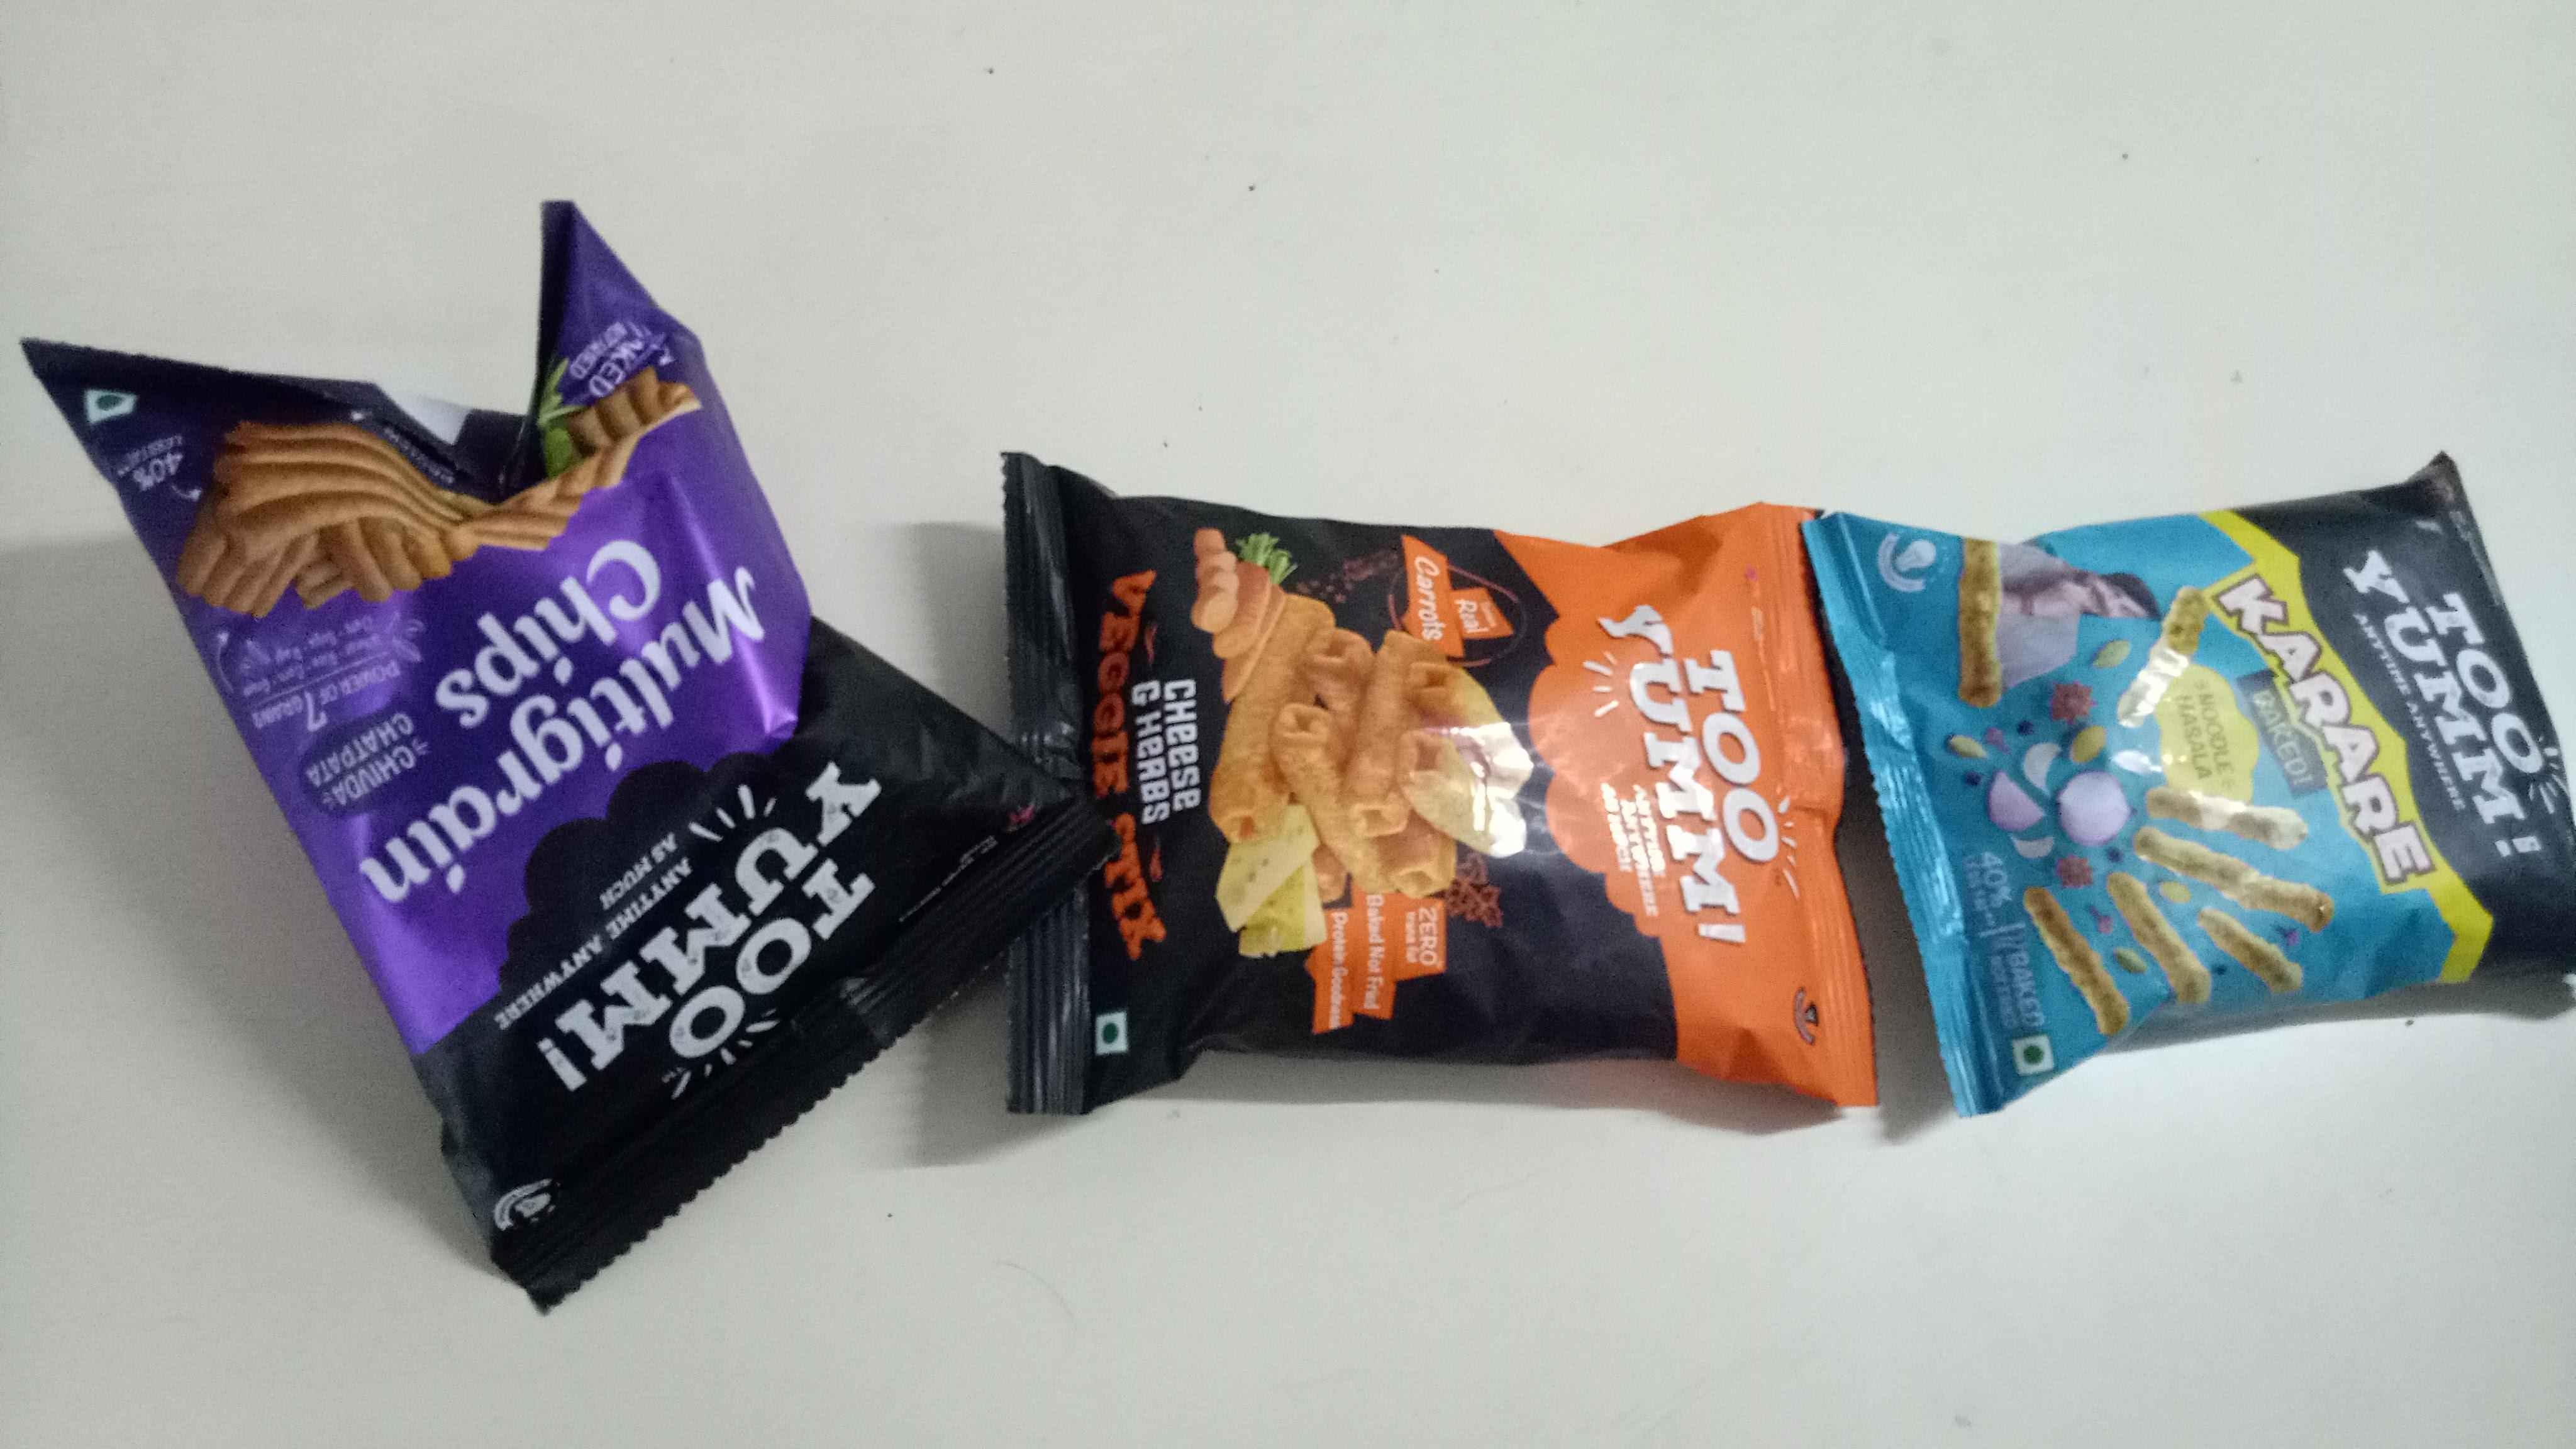tooyumm: (554, 750, 911, 1122), (1614, 579, 1821, 962), (2339, 522, 2555, 870)
